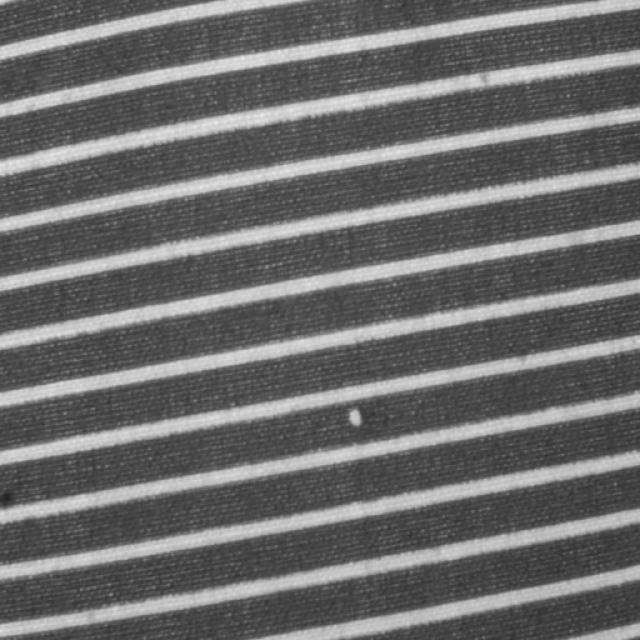Thread-Defect: (341, 402, 366, 426)
